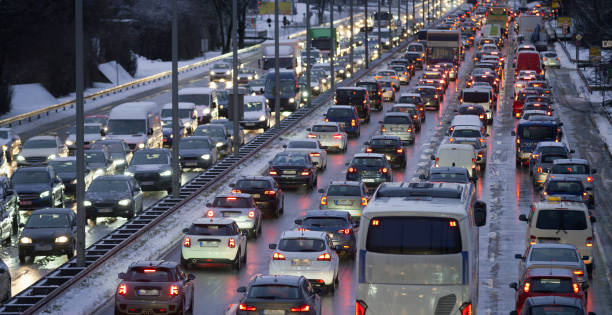bus: (359, 183, 480, 315), (427, 31, 460, 66), (486, 5, 508, 40), (372, 12, 394, 31)
car: (525, 202, 597, 279), (116, 261, 192, 315), (273, 233, 340, 294), (245, 272, 320, 315), (186, 219, 247, 271), (516, 269, 583, 315), (298, 209, 356, 261), (106, 104, 161, 156), (521, 246, 584, 290), (20, 209, 75, 259), (208, 193, 260, 240), (87, 178, 143, 219), (10, 167, 61, 208), (233, 176, 283, 216), (551, 159, 595, 202), (128, 146, 173, 188), (517, 119, 558, 165), (539, 176, 587, 212), (323, 180, 364, 220), (269, 151, 312, 188), (533, 142, 571, 183), (347, 153, 389, 190), (432, 144, 477, 177), (19, 136, 66, 167), (51, 157, 88, 196), (179, 136, 219, 172), (288, 138, 328, 171), (365, 136, 405, 169), (92, 140, 127, 177), (177, 88, 215, 122), (336, 88, 371, 124), (267, 74, 299, 111), (308, 124, 346, 153), (194, 123, 229, 153), (325, 106, 358, 137), (460, 89, 492, 120), (381, 114, 414, 144), (66, 123, 100, 152), (450, 128, 485, 156), (163, 102, 194, 133), (240, 98, 268, 128), (392, 104, 421, 132), (357, 81, 383, 110), (399, 94, 424, 121), (415, 86, 439, 112), (516, 52, 540, 75), (471, 68, 497, 89), (374, 70, 399, 91), (462, 103, 487, 122), (375, 80, 395, 101), (210, 61, 231, 81), (530, 80, 552, 99), (541, 50, 561, 69), (305, 70, 326, 88), (404, 50, 421, 72), (388, 64, 407, 83), (332, 60, 347, 81), (237, 67, 255, 83), (461, 21, 477, 35), (478, 38, 494, 51)
truck: (260, 42, 299, 85), (309, 27, 337, 62), (516, 15, 544, 44)
